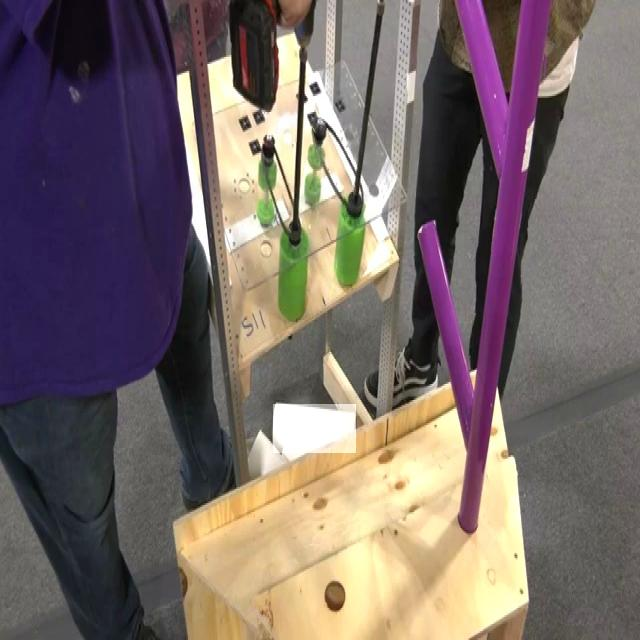Coral: (273, 404, 356, 453)
